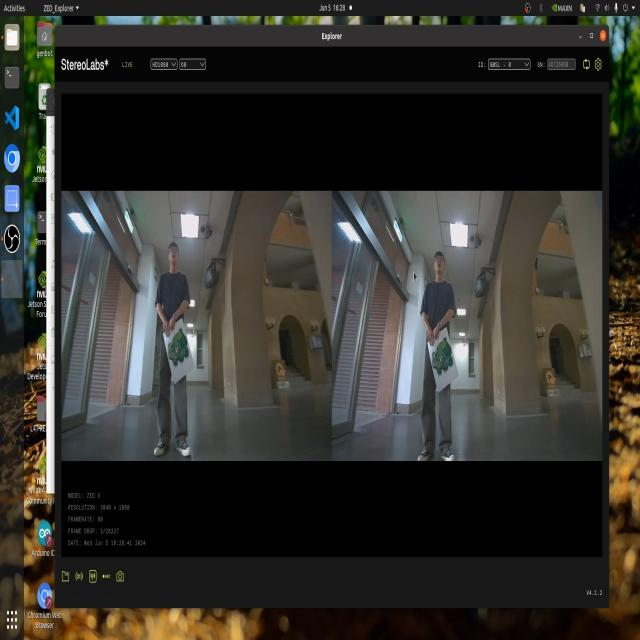green: (429, 334, 455, 379), (169, 329, 189, 370)
